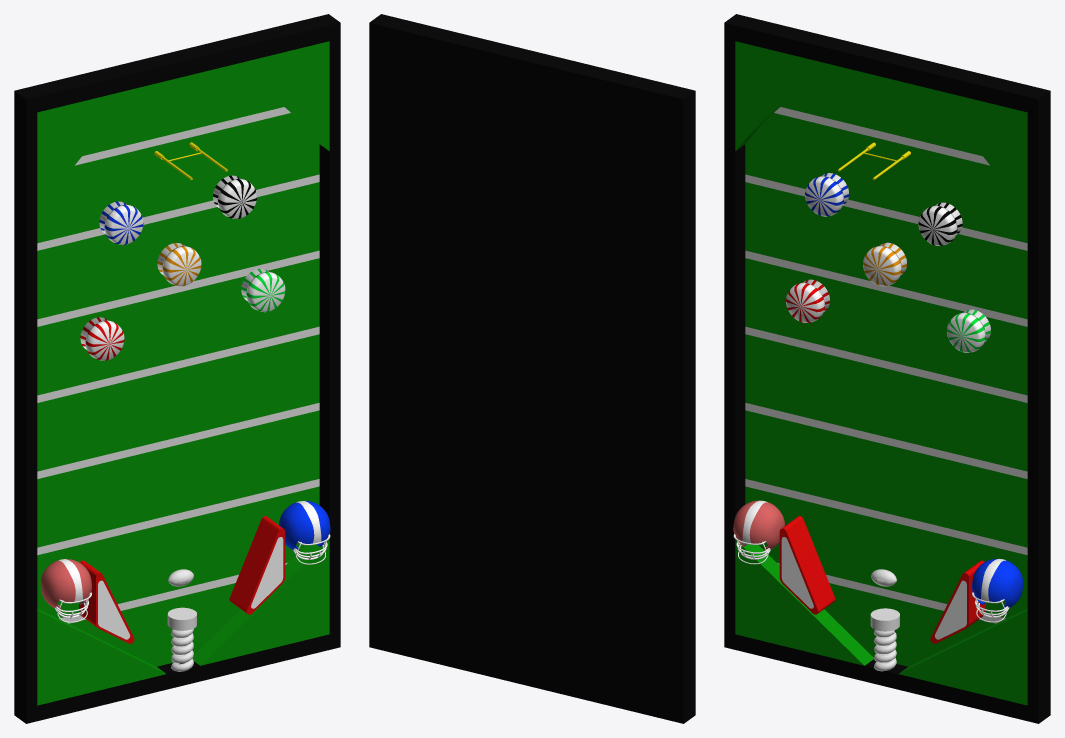
The model's file is Machine_ball_spring.fbx.
3 renders of one model, left to right at view 1: azimuth 30°, elevation 25°; view 2: azimuth 150°, elevation 25°; view 3: azimuth 330°, elevation 25°, orthographic.
Visible parts, largest first — view 1: pCube1, pCube4, pCube12, pCube11, pCube15, pCube13, pCube14, pCylinder5, pCylinder6, pCylinder10, pCylinder7, pCylinder8 (+1 smaller); view 2: pCube1; view 3: pCube1, pCube4, pCube11, pCube12, pCube15, pCube14, pCube13, pCylinder5, pCylinder7, pCylinder8, pCylinder9, pCylinder10 (+1 smaller).
Part boxes in pixels (left/top/right/bottom): pCube1: left=14, top=14, right=340, bottom=723; pCube4: left=37, top=41, right=329, bottom=222; pCube12: left=192, top=539, right=329, bottom=665; pCube11: left=37, top=608, right=165, bottom=705; pCube15: left=79, top=516, right=285, bottom=643; pCube13: left=40, top=559, right=91, bottom=622; pCube14: left=279, top=501, right=330, bottom=564; pCylinder5: left=167, top=607, right=196, bottom=671; pCylinder6: left=80, top=317, right=124, bottom=360; pCylinder10: left=241, top=268, right=285, bottom=312; pCylinder7: left=99, top=201, right=143, bottom=244; pCylinder8: left=157, top=243, right=201, bottom=286; pCube1: left=369, top=14, right=695, bottom=723; pCube1: left=724, top=14, right=1050, bottom=723; pCube4: left=735, top=41, right=1027, bottom=222; pCube11: left=735, top=539, right=873, bottom=665; pCube12: left=899, top=608, right=1027, bottom=705; pCube15: left=779, top=516, right=985, bottom=643; pCube14: left=972, top=558, right=1023, bottom=622; pCube13: left=733, top=500, right=784, bottom=564; pCylinder5: left=870, top=608, right=899, bottom=671; pCylinder7: left=805, top=173, right=848, bottom=216; pCylinder8: left=863, top=242, right=906, bottom=286; pCylinder9: left=918, top=202, right=962, bottom=245; pCylinder10: left=947, top=309, right=990, bottom=352.
Size of the model in its own units: 219 by 416 by 45.4.
